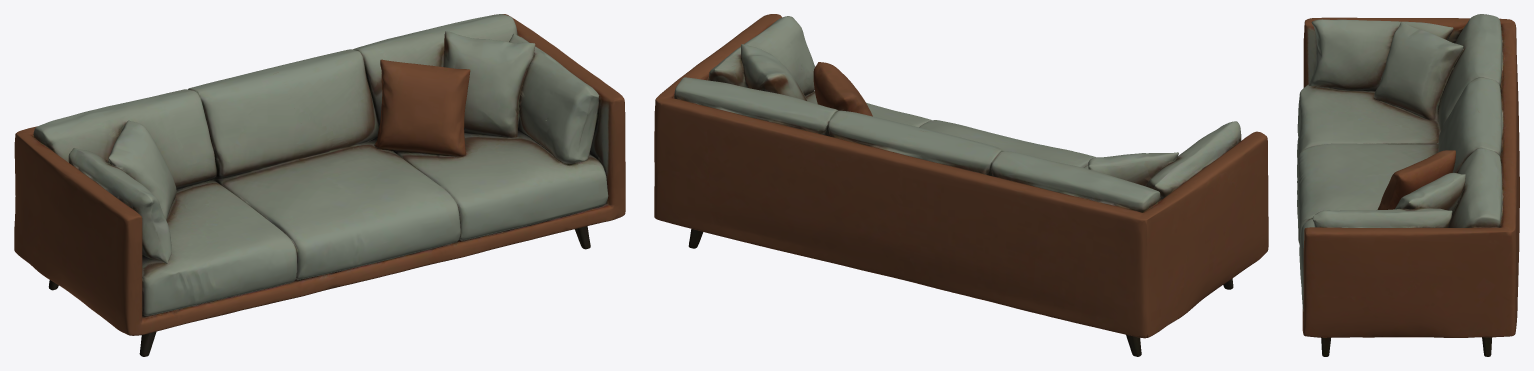
The picture shows the model from 3 angles, left to right: view 1: azimuth 30°, elevation 25°; view 2: azimuth 150°, elevation 25°; view 3: azimuth 270°, elevation 25°; orthographic projection. The views are drawn at different scales.
Visible parts, largest first — view 1: tripo_node_82062e8a-9194-4a12-be77-fb58efa7efdb; view 2: tripo_node_82062e8a-9194-4a12-be77-fb58efa7efdb; view 3: tripo_node_82062e8a-9194-4a12-be77-fb58efa7efdb.
Part boxes in pixels (x1=…): tripo_node_82062e8a-9194-4a12-be77-fb58efa7efdb: x1=14, y1=14, x2=625, y2=356; tripo_node_82062e8a-9194-4a12-be77-fb58efa7efdb: x1=654, y1=14, x2=1268, y2=356; tripo_node_82062e8a-9194-4a12-be77-fb58efa7efdb: x1=1297, y1=14, x2=1519, y2=356.
Bounding box in the file's own units: 2.27 × 0.7501 × 0.9777.
1 material, 1 textured.
